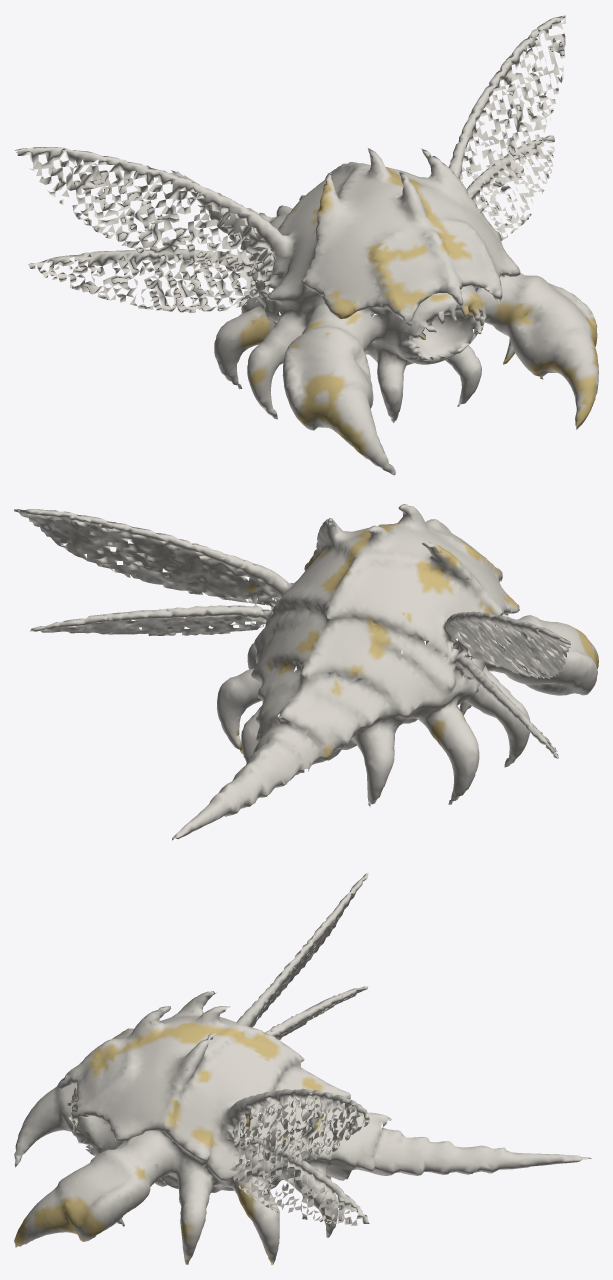
File: mon3d.glb
The picture shows the model from 3 angles, top to bottom: view 1: azimuth 30°, elevation 25°; view 2: azimuth 150°, elevation 25°; view 3: azimuth 270°, elevation 25°; orthographic projection. The views are drawn at different scales.
Size of the model in its own units: 1.93 by 0.8117 by 1.92.
